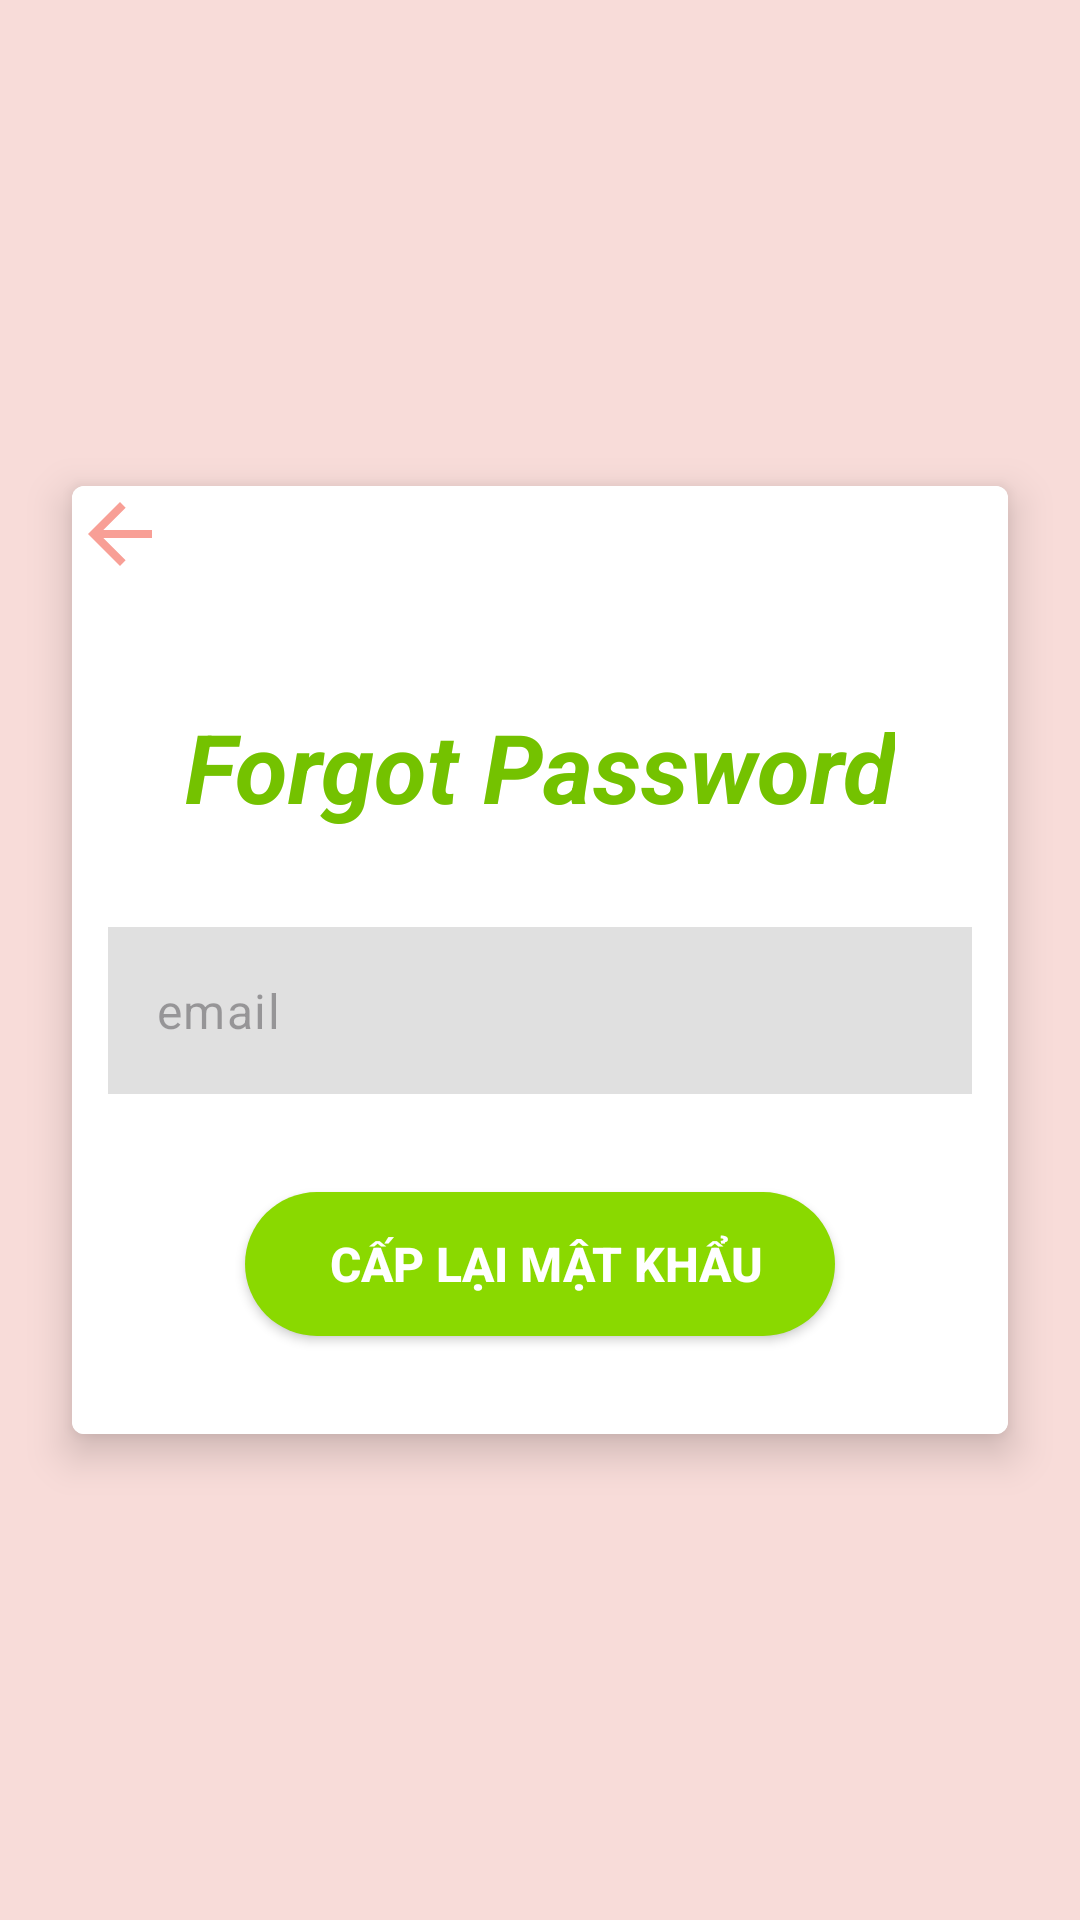

Screen size 1080x1920. Icon name, then its center in pixels as (x,y):
arrow back: (120,534)
